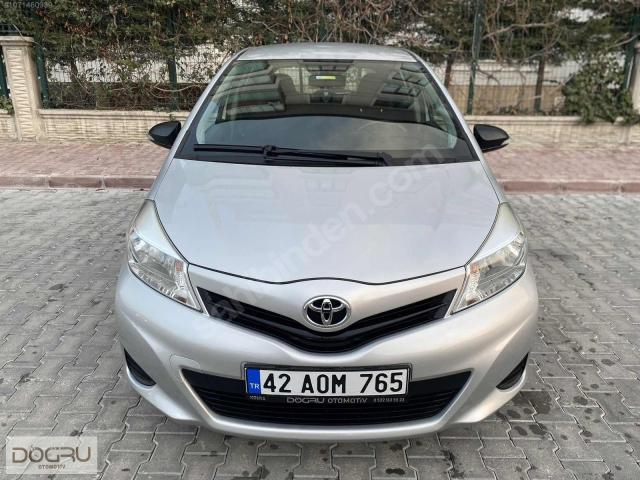plaka: (246, 368, 410, 397)
